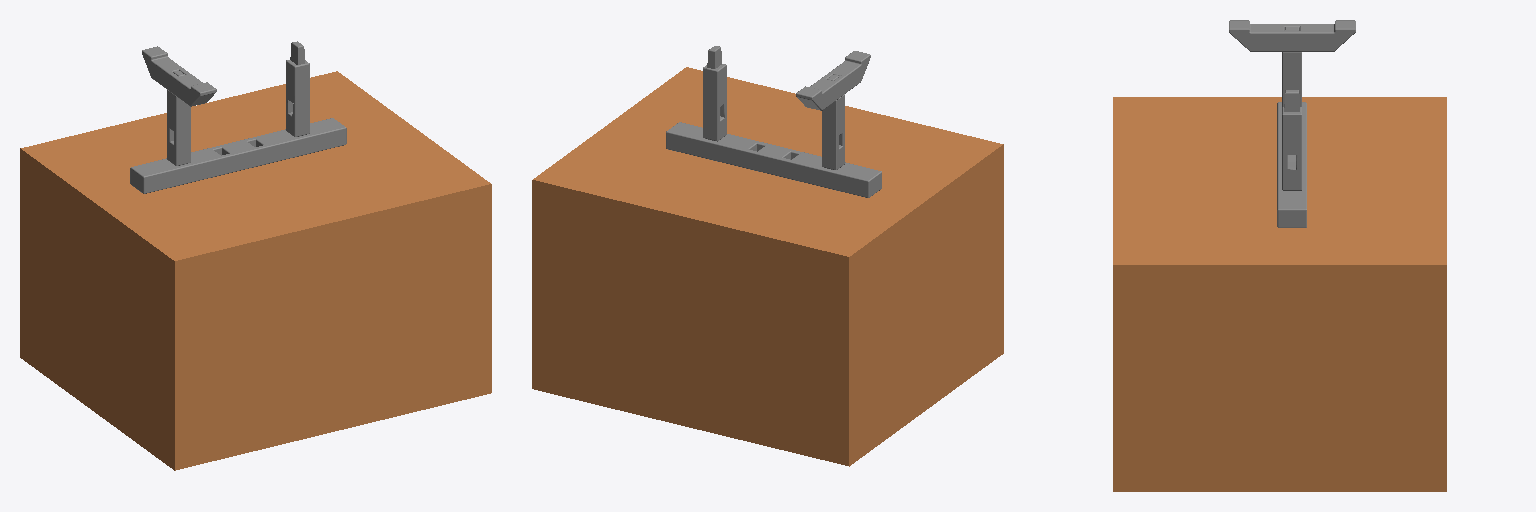
robot.urdf — table_beam_2x_1_scene_0099:
<?xml version="1.0"?>
<robot name="table_beam_2x_1_scene_0099">
  <link name="box">
    <visual>
      <material name="wood"><color rgba="0.82 0.56 0.35 1.0"/></material>
      <origin xyz="0 0 0"/>
      <geometry><box size="0.475 0.4 0.3"/></geometry>
    </visual>
    <collision>
      <origin xyz="0 0 0"/>
      <geometry><box size="0.475 0.4 0.3"/></geometry>
    </collision>
    <inertial>
      <mass value="500"/>
      <friction value="1.0"/>
      <inertia ixx="1000.0" ixy="0.0" ixz="0.0" iyy="1000.0" iyz="0.0" izz="1000.0"/>
    </inertial>
  </link>
  <link name="part_6_canonical">
    <visual>
      <origin xyz="0 0 0" rpy="0 0 0"/>
      <geometry><mesh filename="../../6/6_canonical.obj" scale="1 1 1"/></geometry>
      <material name="placed_0"><color rgba="0.6 0.6 0.6 1.0"/></material>
    </visual>
    <collision>
      <origin xyz="0 0 0" rpy="0 0 0"/>
      <geometry><mesh filename="../../6/6_canonical.obj" scale="1 1 1"/></geometry>
    </collision>
  </link>
  <joint name="part_6_canonical_joint" type="fixed">
    <parent link="box"/>
    <child link="part_6_canonical"/>
    <origin xyz="-0.017663 0.014756 0.162666" rpy="0.000000 0.000000 0.000000"/>
  </joint>
  <link name="part_2_canonical">
    <visual>
      <origin xyz="0 0 0" rpy="0 0 0"/>
      <geometry><mesh filename="../../2/2_canonical.obj" scale="1 1 1"/></geometry>
      <material name="placed_1"><color rgba="0.6 0.6 0.6 1.0"/></material>
    </visual>
    <collision>
      <origin xyz="0 0 0" rpy="0 0 0"/>
      <geometry><mesh filename="../../2/2_canonical.obj" scale="1 1 1"/></geometry>
    </collision>
  </link>
  <joint name="part_2_canonical_joint" type="fixed">
    <parent link="box"/>
    <child link="part_2_canonical"/>
    <origin xyz="-0.106590 0.014756 0.225384" rpy="0.000000 -1.570796 0.000000"/>
  </joint>
  <link name="part_0_canonical">
    <visual>
      <origin xyz="0 0 0" rpy="0 0 0"/>
      <geometry><mesh filename="../../0/0_canonical.obj" scale="1 1 1"/></geometry>
      <material name="placed_2"><color rgba="0.6 0.6 0.6 1.0"/></material>
    </visual>
    <collision>
      <origin xyz="0 0 0" rpy="0 0 0"/>
      <geometry><mesh filename="../../0/0_canonical.obj" scale="1 1 1"/></geometry>
    </collision>
  </link>
  <joint name="part_0_canonical_joint" type="fixed">
    <parent link="box"/>
    <child link="part_0_canonical"/>
    <origin xyz="-0.106563 0.014756 0.292243" rpy="1.570796 0.000000 -1.570796"/>
  </joint>
  <link name="part_3_hull_0">
    <visual>
      <origin xyz="0 0 0" rpy="0 0 0"/>
      <geometry><mesh filename="../../3/coacd/decomp_0.obj" scale="1 1 1"/></geometry>
      <material name="placed_3"><color rgba="0.6 0.6 0.6 1.0"/></material>
    </visual>
    <collision>
      <origin xyz="0 0 0" rpy="0 0 0"/>
      <geometry><mesh filename="../../3/coacd/decomp_0.obj" scale="1 1 1"/></geometry>
    </collision>
  </link>
  <joint name="part_3_hull_0_joint" type="fixed">
    <parent link="box"/>
    <child link="part_3_hull_0"/>
    <origin xyz="0.071264 0.014756 0.225384" rpy="0.000000 -1.570796 0.000000"/>
  </joint>
  <link name="part_3_hull_1">
    <visual>
      <origin xyz="0 0 0" rpy="0 0 0"/>
      <geometry><mesh filename="../../3/coacd/decomp_1.obj" scale="1 1 1"/></geometry>
      <material name="placed_4"><color rgba="0.6 0.6 0.6 1.0"/></material>
    </visual>
    <collision>
      <origin xyz="0 0 0" rpy="0 0 0"/>
      <geometry><mesh filename="../../3/coacd/decomp_1.obj" scale="1 1 1"/></geometry>
    </collision>
  </link>
  <joint name="part_3_hull_1_joint" type="fixed">
    <parent link="box"/>
    <child link="part_3_hull_1"/>
    <origin xyz="0.071264 0.014756 0.225384" rpy="0.000000 -1.570796 0.000000"/>
  </joint>
  <link name="part_3_hull_2">
    <visual>
      <origin xyz="0 0 0" rpy="0 0 0"/>
      <geometry><mesh filename="../../3/coacd/decomp_10.obj" scale="1 1 1"/></geometry>
      <material name="placed_5"><color rgba="0.6 0.6 0.6 1.0"/></material>
    </visual>
    <collision>
      <origin xyz="0 0 0" rpy="0 0 0"/>
      <geometry><mesh filename="../../3/coacd/decomp_10.obj" scale="1 1 1"/></geometry>
    </collision>
  </link>
  <joint name="part_3_hull_2_joint" type="fixed">
    <parent link="box"/>
    <child link="part_3_hull_2"/>
    <origin xyz="0.071264 0.014756 0.225384" rpy="0.000000 -1.570796 0.000000"/>
  </joint>
  <link name="part_3_hull_3">
    <visual>
      <origin xyz="0 0 0" rpy="0 0 0"/>
      <geometry><mesh filename="../../3/coacd/decomp_11.obj" scale="1 1 1"/></geometry>
      <material name="placed_6"><color rgba="0.6 0.6 0.6 1.0"/></material>
    </visual>
    <collision>
      <origin xyz="0 0 0" rpy="0 0 0"/>
      <geometry><mesh filename="../../3/coacd/decomp_11.obj" scale="1 1 1"/></geometry>
    </collision>
  </link>
  <joint name="part_3_hull_3_joint" type="fixed">
    <parent link="box"/>
    <child link="part_3_hull_3"/>
    <origin xyz="0.071264 0.014756 0.225384" rpy="0.000000 -1.570796 0.000000"/>
  </joint>
  <link name="part_3_hull_4">
    <visual>
      <origin xyz="0 0 0" rpy="0 0 0"/>
      <geometry><mesh filename="../../3/coacd/decomp_12.obj" scale="1 1 1"/></geometry>
      <material name="placed_7"><color rgba="0.6 0.6 0.6 1.0"/></material>
    </visual>
    <collision>
      <origin xyz="0 0 0" rpy="0 0 0"/>
      <geometry><mesh filename="../../3/coacd/decomp_12.obj" scale="1 1 1"/></geometry>
    </collision>
  </link>
  <joint name="part_3_hull_4_joint" type="fixed">
    <parent link="box"/>
    <child link="part_3_hull_4"/>
    <origin xyz="0.071264 0.014756 0.225384" rpy="0.000000 -1.570796 0.000000"/>
  </joint>
  <link name="part_3_hull_5">
    <visual>
      <origin xyz="0 0 0" rpy="0 0 0"/>
      <geometry><mesh filename="../../3/coacd/decomp_2.obj" scale="1 1 1"/></geometry>
      <material name="placed_8"><color rgba="0.6 0.6 0.6 1.0"/></material>
    </visual>
    <collision>
      <origin xyz="0 0 0" rpy="0 0 0"/>
      <geometry><mesh filename="../../3/coacd/decomp_2.obj" scale="1 1 1"/></geometry>
    </collision>
  </link>
  <joint name="part_3_hull_5_joint" type="fixed">
    <parent link="box"/>
    <child link="part_3_hull_5"/>
    <origin xyz="0.071264 0.014756 0.225384" rpy="0.000000 -1.570796 0.000000"/>
  </joint>
  <link name="part_3_hull_6">
    <visual>
      <origin xyz="0 0 0" rpy="0 0 0"/>
      <geometry><mesh filename="../../3/coacd/decomp_3.obj" scale="1 1 1"/></geometry>
      <material name="placed_9"><color rgba="0.6 0.6 0.6 1.0"/></material>
    </visual>
    <collision>
      <origin xyz="0 0 0" rpy="0 0 0"/>
      <geometry><mesh filename="../../3/coacd/decomp_3.obj" scale="1 1 1"/></geometry>
    </collision>
  </link>
  <joint name="part_3_hull_6_joint" type="fixed">
    <parent link="box"/>
    <child link="part_3_hull_6"/>
    <origin xyz="0.071264 0.014756 0.225384" rpy="0.000000 -1.570796 0.000000"/>
  </joint>
  <link name="part_3_hull_7">
    <visual>
      <origin xyz="0 0 0" rpy="0 0 0"/>
      <geometry><mesh filename="../../3/coacd/decomp_4.obj" scale="1 1 1"/></geometry>
      <material name="placed_10"><color rgba="0.6 0.6 0.6 1.0"/></material>
    </visual>
    <collision>
      <origin xyz="0 0 0" rpy="0 0 0"/>
      <geometry><mesh filename="../../3/coacd/decomp_4.obj" scale="1 1 1"/></geometry>
    </collision>
  </link>
  <joint name="part_3_hull_7_joint" type="fixed">
    <parent link="box"/>
    <child link="part_3_hull_7"/>
    <origin xyz="0.071264 0.014756 0.225384" rpy="0.000000 -1.570796 0.000000"/>
  </joint>
  <link name="part_3_hull_8">
    <visual>
      <origin xyz="0 0 0" rpy="0 0 0"/>
      <geometry><mesh filename="../../3/coacd/decomp_5.obj" scale="1 1 1"/></geometry>
      <material name="placed_11"><color rgba="0.6 0.6 0.6 1.0"/></material>
    </visual>
    <collision>
      <origin xyz="0 0 0" rpy="0 0 0"/>
      <geometry><mesh filename="../../3/coacd/decomp_5.obj" scale="1 1 1"/></geometry>
    </collision>
  </link>
  <joint name="part_3_hull_8_joint" type="fixed">
    <parent link="box"/>
    <child link="part_3_hull_8"/>
    <origin xyz="0.071264 0.014756 0.225384" rpy="0.000000 -1.570796 0.000000"/>
  </joint>
  <link name="part_3_hull_9">
    <visual>
      <origin xyz="0 0 0" rpy="0 0 0"/>
      <geometry><mesh filename="../../3/coacd/decomp_6.obj" scale="1 1 1"/></geometry>
      <material name="placed_12"><color rgba="0.6 0.6 0.6 1.0"/></material>
    </visual>
    <collision>
      <origin xyz="0 0 0" rpy="0 0 0"/>
      <geometry><mesh filename="../../3/coacd/decomp_6.obj" scale="1 1 1"/></geometry>
    </collision>
  </link>
  <joint name="part_3_hull_9_joint" type="fixed">
    <parent link="box"/>
    <child link="part_3_hull_9"/>
    <origin xyz="0.071264 0.014756 0.225384" rpy="0.000000 -1.570796 0.000000"/>
  </joint>
  <link name="part_3_hull_10">
    <visual>
      <origin xyz="0 0 0" rpy="0 0 0"/>
      <geometry><mesh filename="../../3/coacd/decomp_7.obj" scale="1 1 1"/></geometry>
      <material name="placed_13"><color rgba="0.6 0.6 0.6 1.0"/></material>
    </visual>
    <collision>
      <origin xyz="0 0 0" rpy="0 0 0"/>
      <geometry><mesh filename="../../3/coacd/decomp_7.obj" scale="1 1 1"/></geometry>
    </collision>
  </link>
  <joint name="part_3_hull_10_joint" type="fixed">
    <parent link="box"/>
    <child link="part_3_hull_10"/>
    <origin xyz="0.071264 0.014756 0.225384" rpy="0.000000 -1.570796 0.000000"/>
  </joint>
  <link name="part_3_hull_11">
    <visual>
      <origin xyz="0 0 0" rpy="0 0 0"/>
      <geometry><mesh filename="../../3/coacd/decomp_8.obj" scale="1 1 1"/></geometry>
      <material name="placed_14"><color rgba="0.6 0.6 0.6 1.0"/></material>
    </visual>
    <collision>
      <origin xyz="0 0 0" rpy="0 0 0"/>
      <geometry><mesh filename="../../3/coacd/decomp_8.obj" scale="1 1 1"/></geometry>
    </collision>
  </link>
  <joint name="part_3_hull_11_joint" type="fixed">
    <parent link="box"/>
    <child link="part_3_hull_11"/>
    <origin xyz="0.071264 0.014756 0.225384" rpy="0.000000 -1.570796 0.000000"/>
  </joint>
  <link name="part_3_hull_12">
    <visual>
      <origin xyz="0 0 0" rpy="0 0 0"/>
      <geometry><mesh filename="../../3/coacd/decomp_9.obj" scale="1 1 1"/></geometry>
      <material name="placed_15"><color rgba="0.6 0.6 0.6 1.0"/></material>
    </visual>
    <collision>
      <origin xyz="0 0 0" rpy="0 0 0"/>
      <geometry><mesh filename="../../3/coacd/decomp_9.obj" scale="1 1 1"/></geometry>
    </collision>
  </link>
  <joint name="part_3_hull_12_joint" type="fixed">
    <parent link="box"/>
    <child link="part_3_hull_12"/>
    <origin xyz="0.071264 0.014756 0.225384" rpy="0.000000 -1.570796 0.000000"/>
  </joint>
</robot>

--- What the picture shows (computed from the rendered views, not written in the file) ---
The picture shows the robot from 3 angles, left to right: view 1: azimuth 30°, elevation 25°; view 2: azimuth 150°, elevation 25°; view 3: azimuth 270°, elevation 25°; orthographic projection.
Robot: table_beam_2x_1_scene_0099 — 17 links, 16 joints (16 fixed); root link box; default pose: all joints at 0.
Links seen in each view (by area): view 1: box, part_6_canonical, part_0_canonical, part_2_canonical; view 2: box, part_6_canonical, part_0_canonical, part_2_canonical, part_3_hull_11; view 3: box, part_0_canonical, part_6_canonical, part_2_canonical, part_3_hull_0.
Link boxes in pixels (x1,y1,x2,y2): box: (20,71,491,470); part_6_canonical: (130,118,346,193); part_0_canonical: (142,46,216,106); part_2_canonical: (167,70,190,165); box: (532,67,1003,466); part_6_canonical: (666,122,881,197); part_0_canonical: (796,51,870,110); part_2_canonical: (822,75,844,169); part_3_hull_11: (706,68,714,140); box: (1113,97,1446,491); part_0_canonical: (1229,20,1355,51); part_6_canonical: (1277,102,1306,227); part_2_canonical: (1282,27,1301,106); part_3_hull_0: (1282,112,1301,154).
Bounding box of the posed robot: 0.475 × 0.4 × 0.4575 m (x, y, z).
Meshes: 16 distinct files referenced, 16 mesh visuals loaded (16 OBJ).
